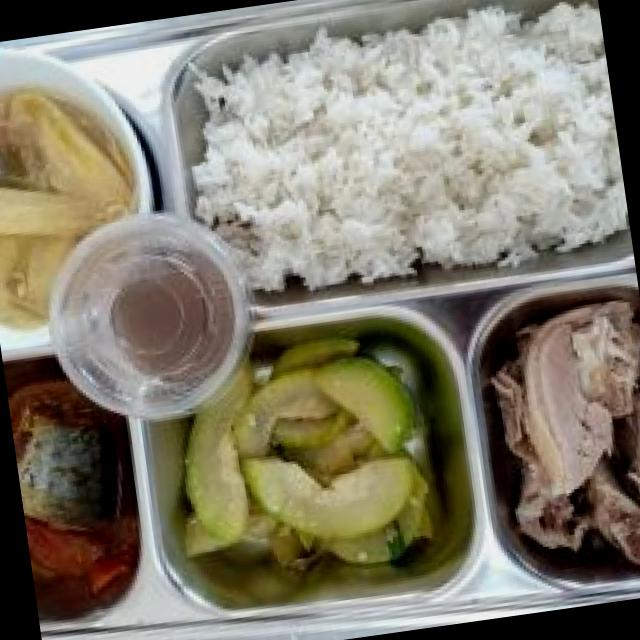ca kho: (4, 361, 136, 617)
canh chua: (0, 90, 136, 331)
com: (196, 3, 626, 288)
rau: (184, 341, 429, 571)
thit luoc: (491, 302, 640, 563)
